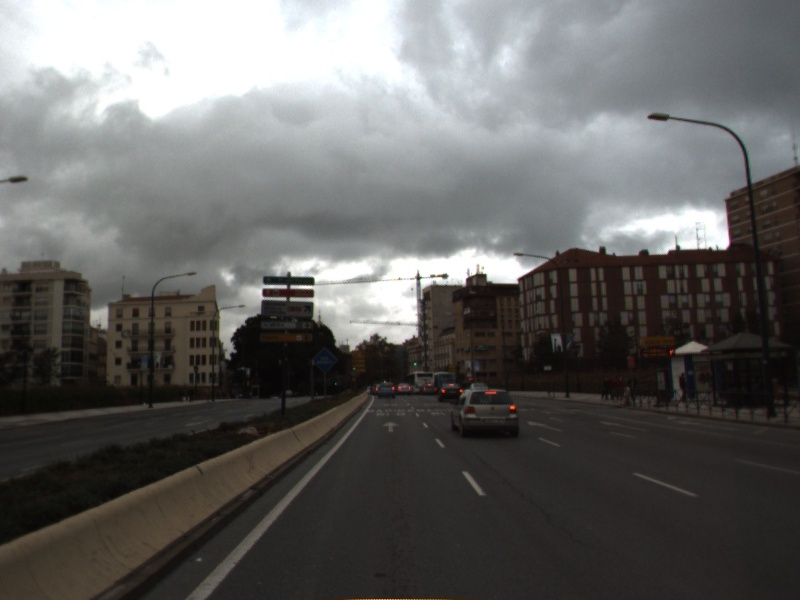STRAIGHT: (597, 418, 651, 434), (526, 419, 567, 434), (380, 419, 402, 434)
